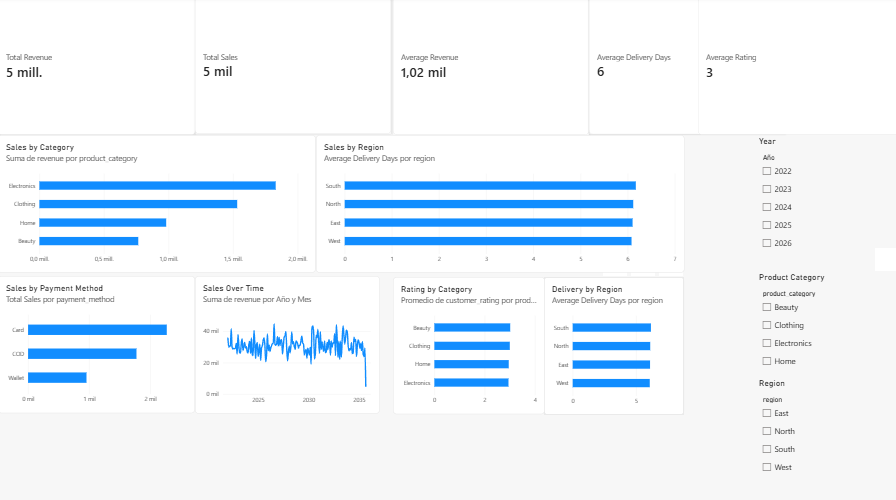

What the dashboard file says about the page in this screenshot:
{"tool":"powerbi","page":{"name":"Página 1","canvas":[1920,1080],"ordinal":0},"visuals":[{"type":"cardVisual","fields":{"Data":["ecommerce_sales_analytics_5000.Total Revenue"]},"box":[0,0,420,293.3],"z":0},{"type":"cardVisual","fields":{"Data":["ecommerce_sales_analytics_5000.Total Sales"]},"box":[420,0,417.8,291.1],"z":1000},{"type":"cardVisual","fields":{"Data":["ecommerce_sales_analytics_5000.Average Revenue"]},"box":[840,0,417.8,293.3],"z":2000},{"type":"clusteredBarChart","title":"Sales by Category","fields":{"Category":["ecommerce_sales_analytics_5000.product_category"],"Y":["Sum(ecommerce_sales_analytics_5000.revenue)"]},"box":[0.1,293.3,675.6,293.3],"z":3000},{"type":"lineChart","title":"Sales Over Time","fields":{"Category":["ecommerce_sales_analytics_5000.order_date.Variación.Jerarquía de fechas.Año","ecommerce_sales_analytics_5000.order_date.Variación.Jerarquía de fechas.Mes"],"Y":["Sum(ecommerce_sales_analytics_5000.revenue)"]},"box":[420,593.3,393.3,293.3],"z":4000},{"type":"clusteredBarChart","title":"Delivery by Region","fields":{"Category":["ecommerce_sales_analytics_5000.region"],"Y":["ecommerce_sales_analytics_5000.Average Delivery Days"]},"box":[1162.2,595.6,297.8,293.3],"z":5000},{"type":"clusteredBarChart","title":"Sales by Payment Method","fields":{"Category":["ecommerce_sales_analytics_5000.payment_method"],"Y":["ecommerce_sales_analytics_5000.Total Sales"]},"box":[0,593.3,419,292],"z":6000},{"type":"cardVisual","fields":{"Data":["ecommerce_sales_analytics_5000.Average Delivery Days"]},"box":[1258.1,0,419,292],"z":7000},{"type":"cardVisual","fields":{"Data":["ecommerce_sales_analytics_5000.Average Rating"]},"box":[1488.4,0,432.6,293],"z":7001},{"type":"clusteredBarChart","title":"Rating by Category","fields":{"Category":["ecommerce_sales_analytics_5000.product_category"],"Y":["Avg(ecommerce_sales_analytics_5000.customer_rating)"]},"box":[840,595.6,323,292],"z":7002},{"type":"clusteredBarChart","title":"Sales by Region","fields":{"Category":["ecommerce_sales_analytics_5000.region"],"Y":["ecommerce_sales_analytics_5000.Average Delivery Days"]},"box":[675.6,293.3,784.4,293.3],"z":7003},{"type":"slicer","title":"Year","fields":{"Values":["ecommerce_sales_analytics_5000.order_date.Variación.Jerarquía de fechas.Año"]},"box":[1620,295.6,300,244.4],"z":7004},{"type":"slicer","title":"Region","fields":{"Values":["ecommerce_sales_analytics_5000.region"]},"box":[1620,811.1,300,226.7],"z":7005},{"type":"slicer","title":"Product Category","fields":{"Values":["ecommerce_sales_analytics_5000.product_category"]},"box":[1620,584.4,300,300],"z":7006}]}

Visuals, with their boxes in screenshot pixels (x1, y1, x2, y2), scaled from the page's 1920x1080 canvas onto the 896x500 screenshot:
cardVisual - ecommerce_sales_analytics_5000.Total Revenue: Rect(0, 0, 196, 136)
cardVisual - ecommerce_sales_analytics_5000.Total Sales: Rect(196, 0, 391, 135)
cardVisual - ecommerce_sales_analytics_5000.Average Revenue: Rect(392, 0, 587, 136)
"Sales by Category" clusteredBarChart: Rect(0, 136, 315, 272)
"Sales Over Time" lineChart: Rect(196, 275, 380, 410)
"Delivery by Region" clusteredBarChart: Rect(542, 276, 681, 412)
"Sales by Payment Method" clusteredBarChart: Rect(0, 275, 196, 410)
cardVisual - ecommerce_sales_analytics_5000.Average Delivery Days: Rect(587, 0, 783, 135)
cardVisual - ecommerce_sales_analytics_5000.Average Rating: Rect(695, 0, 895, 136)
"Rating by Category" clusteredBarChart: Rect(392, 276, 543, 411)
"Sales by Region" clusteredBarChart: Rect(315, 136, 681, 272)
"Year" slicer: Rect(756, 137, 895, 250)
"Region" slicer: Rect(756, 376, 895, 480)
"Product Category" slicer: Rect(756, 271, 895, 409)
